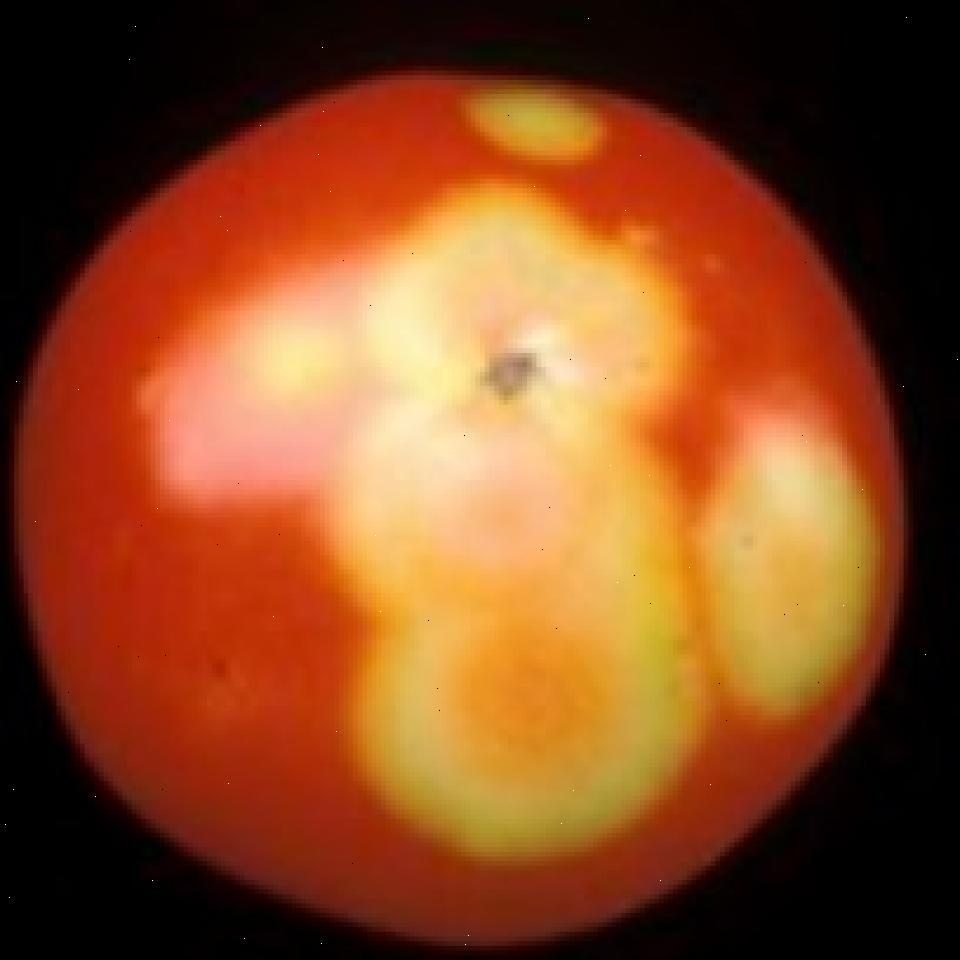Spotted wilt Virus: (19, 75, 899, 946)
